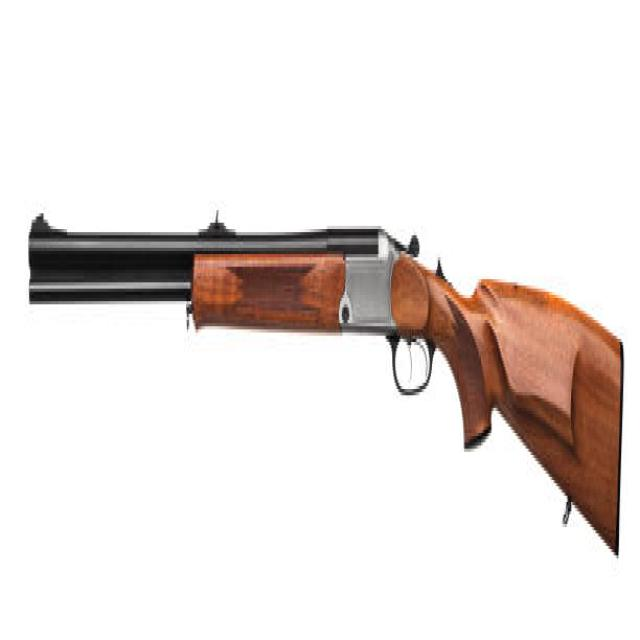rifle: (29, 194, 632, 574)
